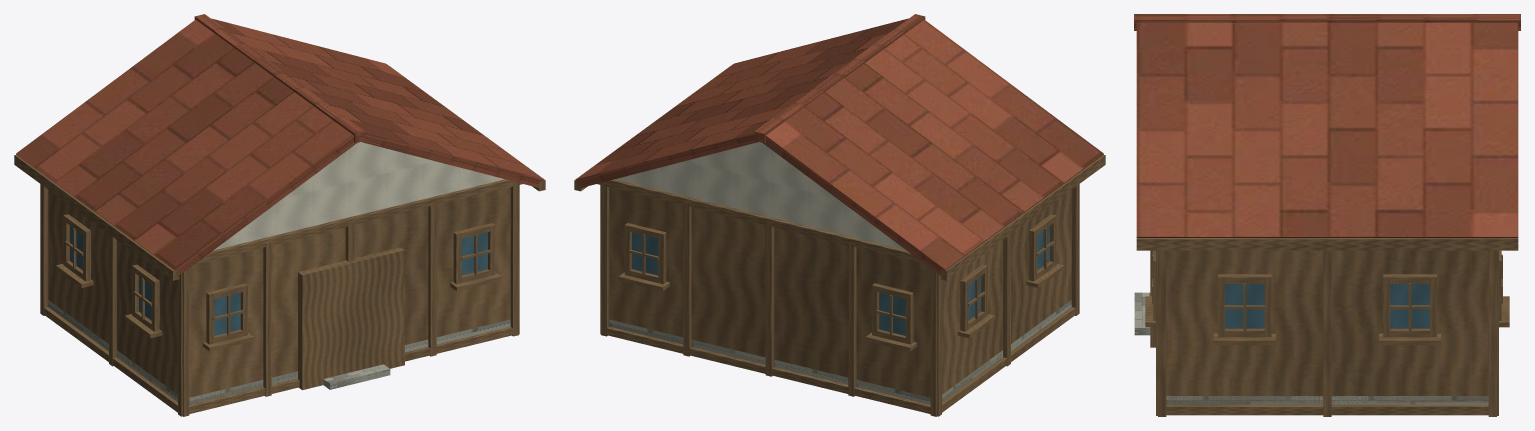
3 renders of one model, left to right at view 1: azimuth 30°, elevation 25°; view 2: azimuth 150°, elevation 25°; view 3: azimuth 270°, elevation 25°, orthographic. The views are drawn at different scales.
Parts seen in each view (by area): view 1: house-wood, house-roof, house-plaster, house-stone, house-glass; view 2: house-wood, house-roof, house-plaster, house-stone, house-glass; view 3: house-roof, house-wood, house-stone, house-glass.
Part boxes in pixels (left/top/right/bottom): house-wood: left=14, top=64, right=545, bottom=416; house-roof: left=16, top=14, right=543, bottom=276; house-plaster: left=214, top=142, right=504, bottom=250; house-stone: left=48, top=300, right=510, bottom=404; house-glass: left=70, top=226, right=487, bottom=335; house-wood: left=574, top=64, right=1105, bottom=416; house-roof: left=576, top=14, right=1103, bottom=276; house-plaster: left=615, top=142, right=905, bottom=250; house-stone: left=609, top=300, right=1071, bottom=404; house-glass: left=632, top=226, right=1049, bottom=335; house-roof: left=1134, top=14, right=1520, bottom=237; house-wood: left=1136, top=238, right=1518, bottom=416; house-stone: left=1134, top=292, right=1488, bottom=404; house-glass: left=1225, top=284, right=1429, bottom=328.
Size of the model in its own units: 10.18 by 6.52 by 7.6.
Materials: 5 (5 with a texture image).
